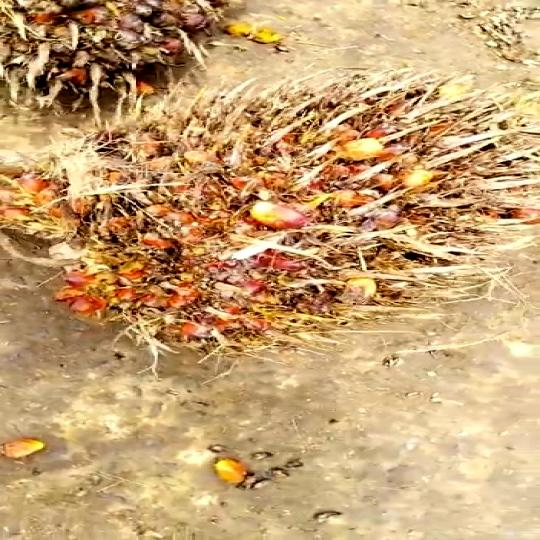terlalu masak: (0, 73, 540, 353)
